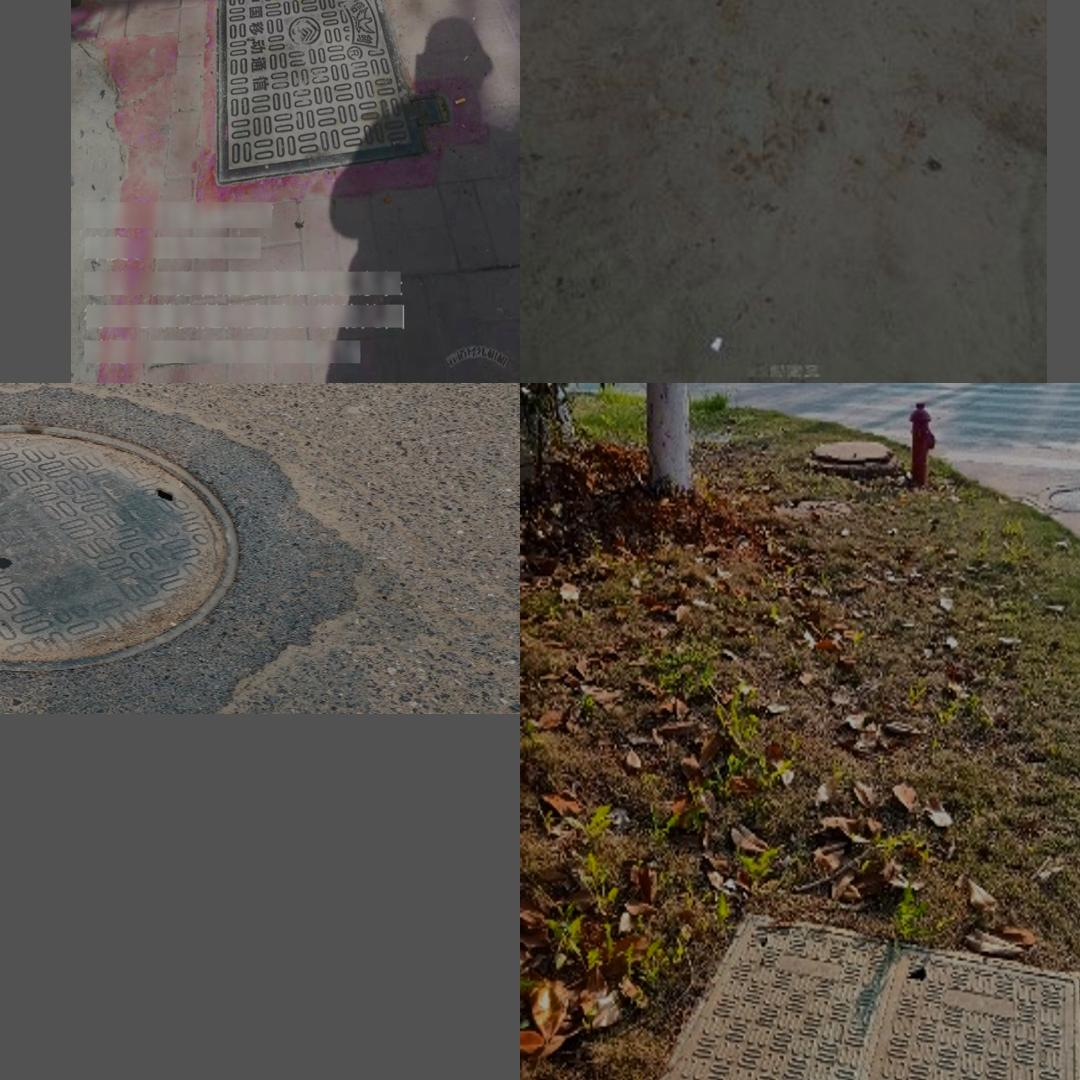good: (576, 908, 1080, 1080), (0, 429, 244, 678), (216, 0, 451, 187)
